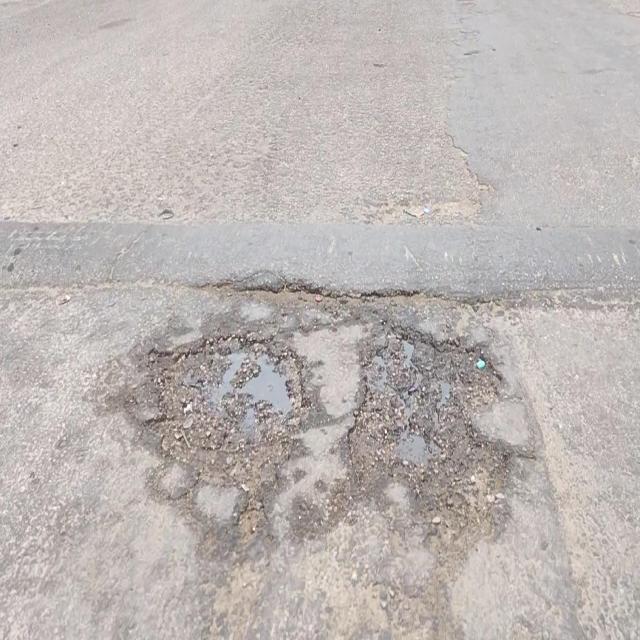Potholes: (342, 314, 512, 520), (137, 331, 315, 500)
